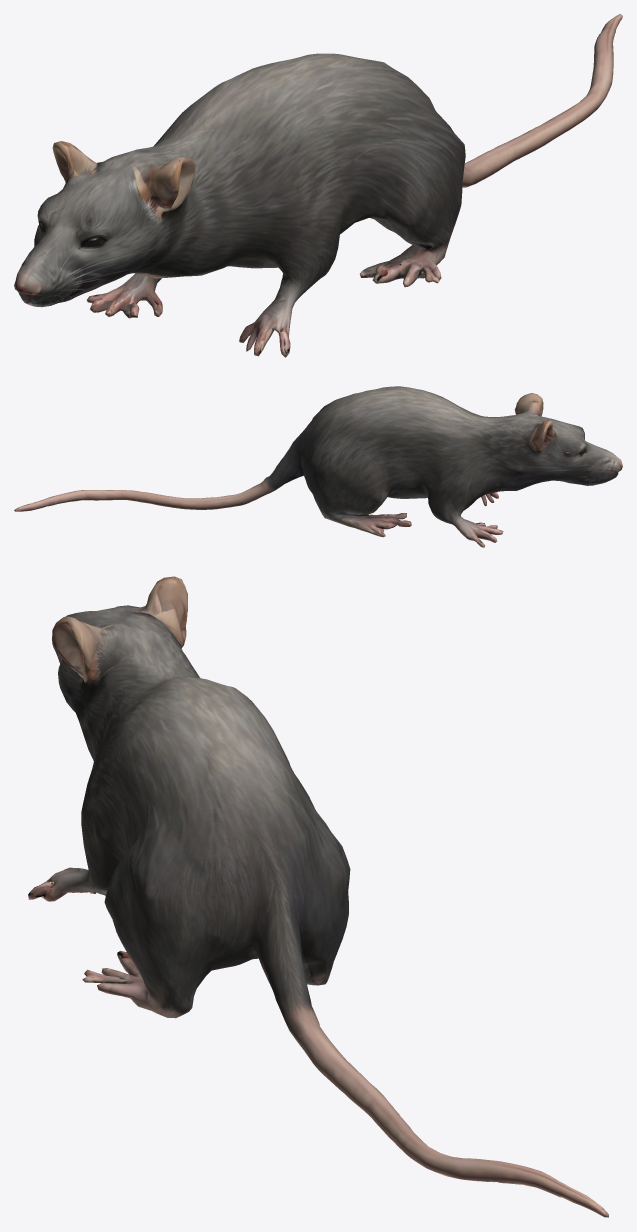
File: rat.glb
The picture shows the model from 3 angles, top to bottom: view 1: azimuth 30°, elevation 25°; view 2: azimuth 150°, elevation 25°; view 3: azimuth 270°, elevation 25°; orthographic projection. The views are drawn at different scales.
Bounding box in the file's own units: 1.99 × 0.5043 × 1.06.
Materials: 1 (1 with a texture image).
